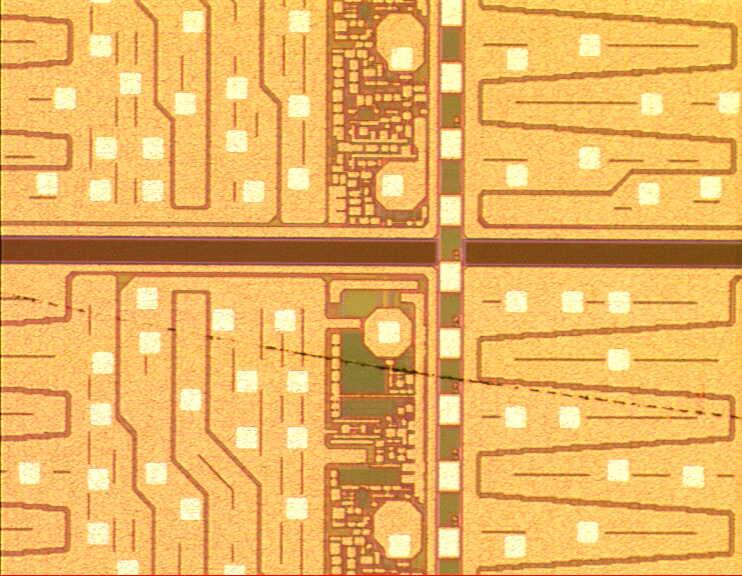SCRATCH: (1, 279, 742, 435)
